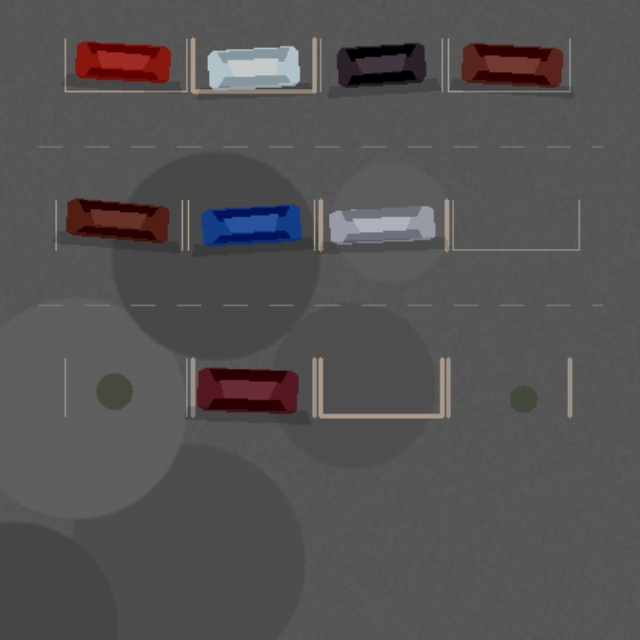space-empty: (320, 358, 442, 415), (65, 358, 186, 415), (448, 358, 569, 415), (452, 200, 578, 249)
space-occupied: (192, 358, 314, 415), (192, 38, 314, 91), (320, 38, 442, 91), (65, 38, 186, 91), (448, 38, 569, 91), (55, 200, 182, 249), (188, 200, 314, 249), (320, 200, 446, 249)
